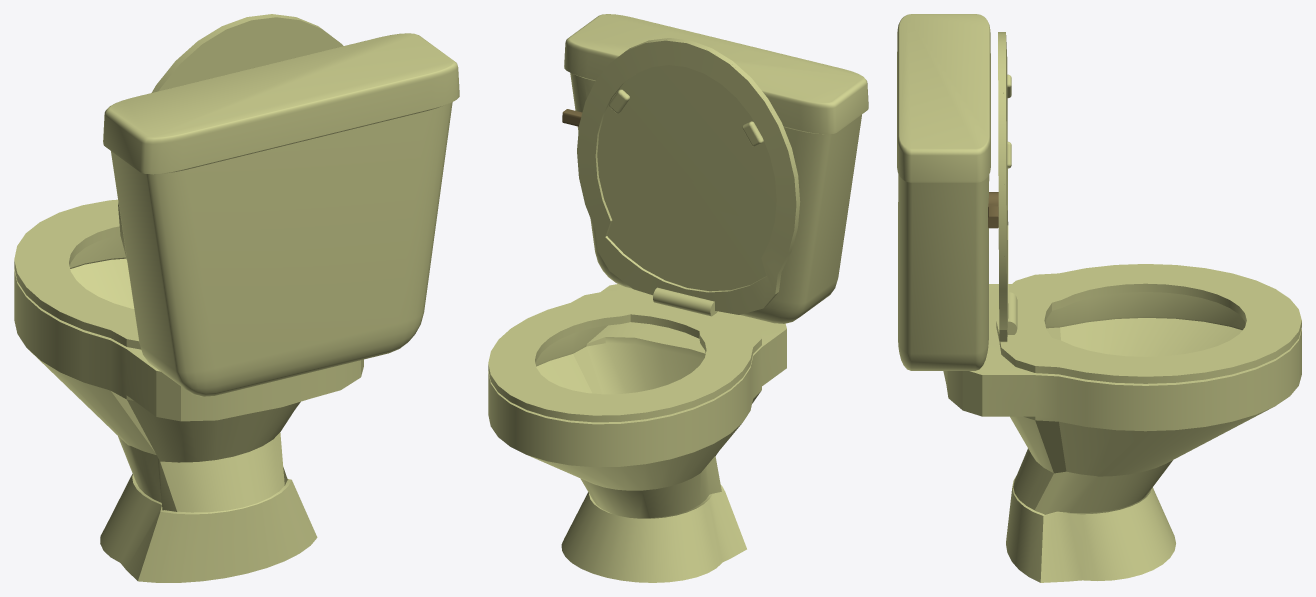
The model's file is Toilet.fbx.
3 views of the same model, side by side, from view 1: azimuth 30°, elevation 25°; view 2: azimuth 150°, elevation 25°; view 3: azimuth 270°, elevation 25° (orthographic). The views are drawn at different scales.
Visible parts, largest first — view 1: Cube.002, Cylinder.003, Cylinder.008; view 2: Cylinder.003, Cylinder.008, Cube.002, Cylinder.009; view 3: Cylinder.003, Cube.002, Cylinder.008.
Boxes of the visible parts, x1,y1,x2,y2 form: Cube.002: (103,33,459,396); Cylinder.003: (14,199,363,582); Cylinder.008: (118,14,343,259); Cylinder.003: (488,284,786,582); Cylinder.008: (577,38,800,314); Cube.002: (564,14,868,323); Cylinder.009: (653,287,717,316); Cylinder.003: (943,264,1301,582); Cube.002: (897,14,990,370); Cylinder.008: (998,32,1011,342).
Bounding box in the file's own units: 58.79 × 98.13 × 71.87.
